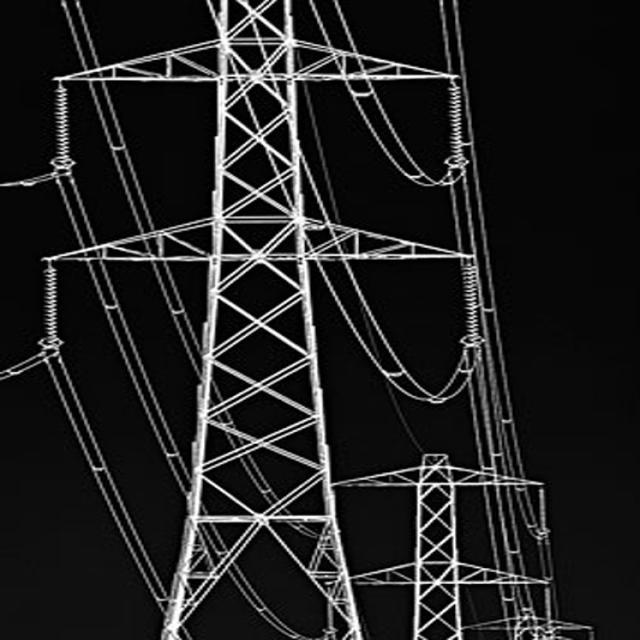non-critical vegetation: (38, 9, 456, 628), (326, 448, 536, 638)
